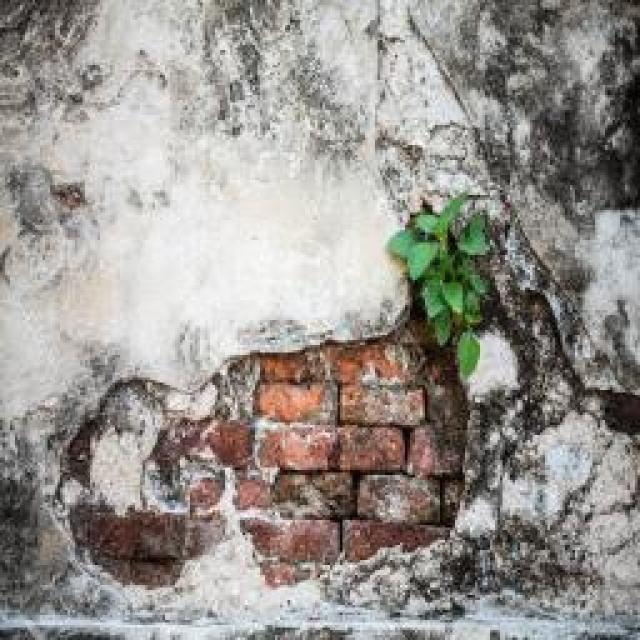leak: (1, 1, 638, 634)
